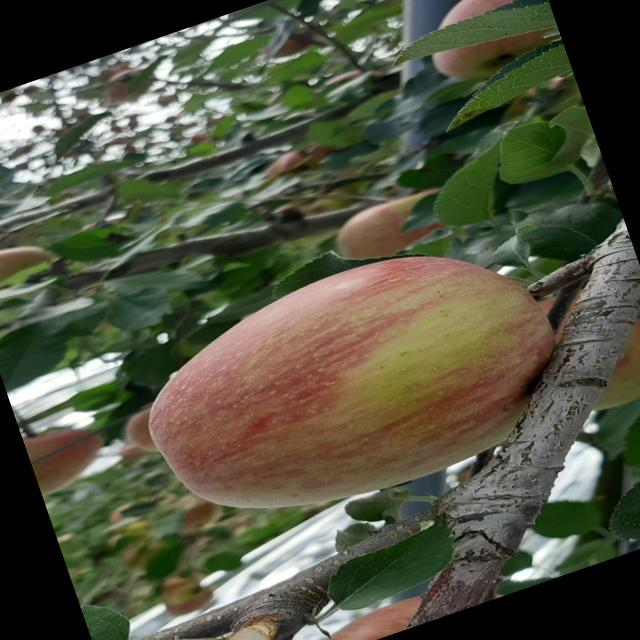fresh: (101, 197, 612, 568)
